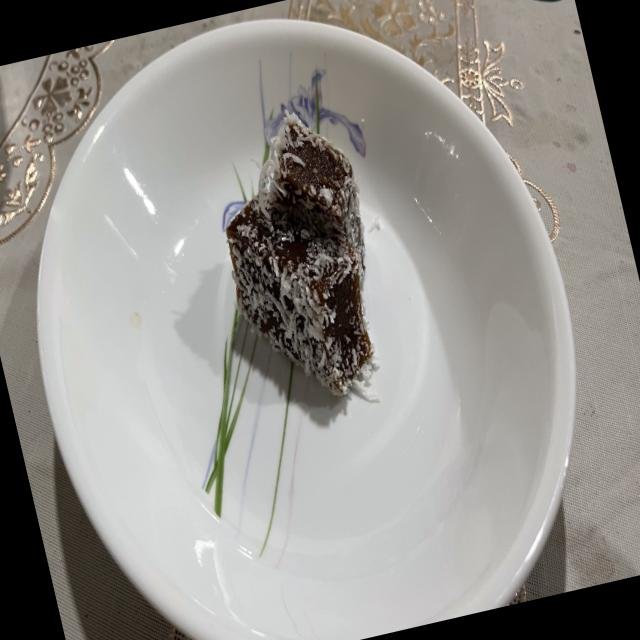kaswi: (227, 195, 375, 395), (266, 112, 365, 282)
